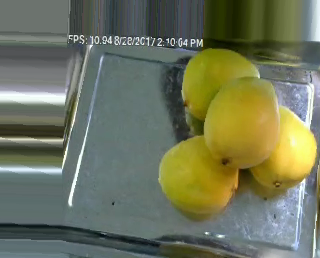Mango: (206, 76, 281, 167), (159, 131, 236, 214), (183, 46, 264, 121), (247, 105, 314, 188)
